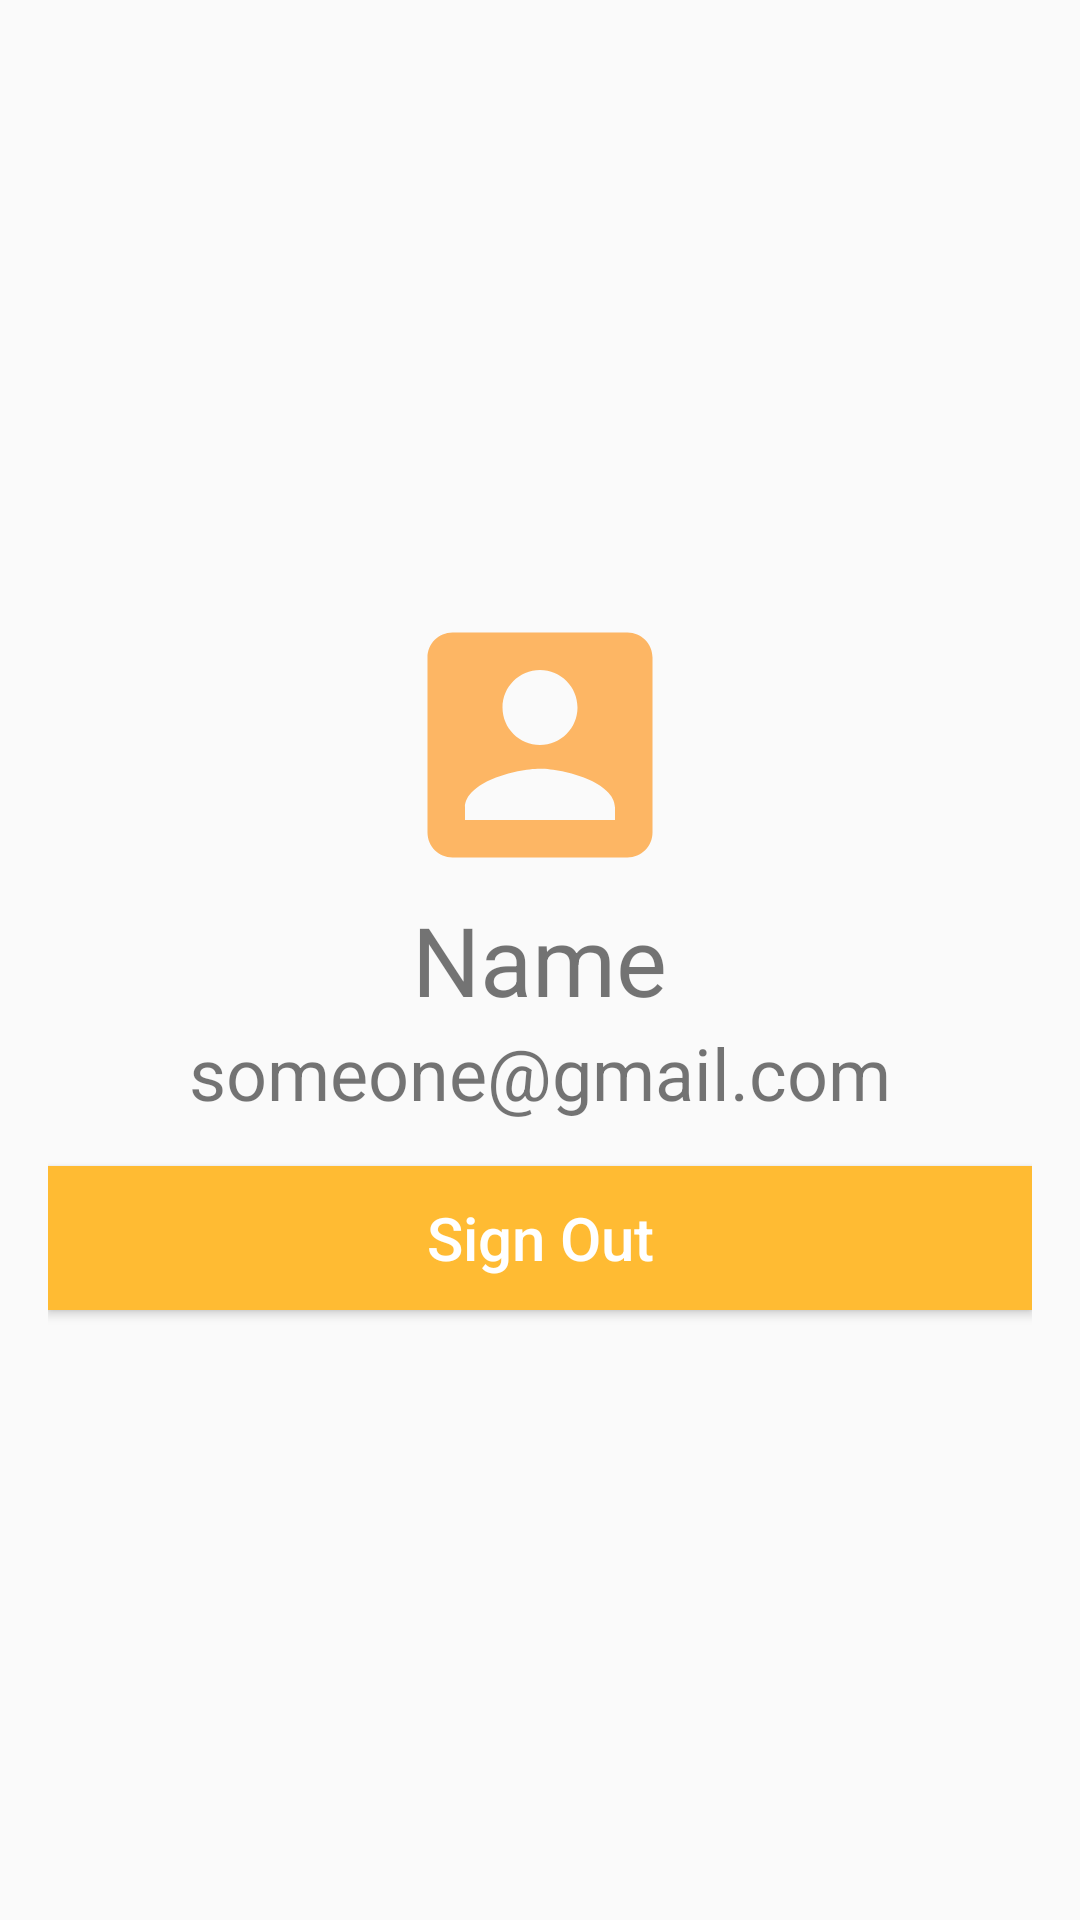

Screen size 1080w x 1920h. Icon name, then its box in pixels as (x1, y1, x2, y2):
profile: (427, 632, 653, 858)
